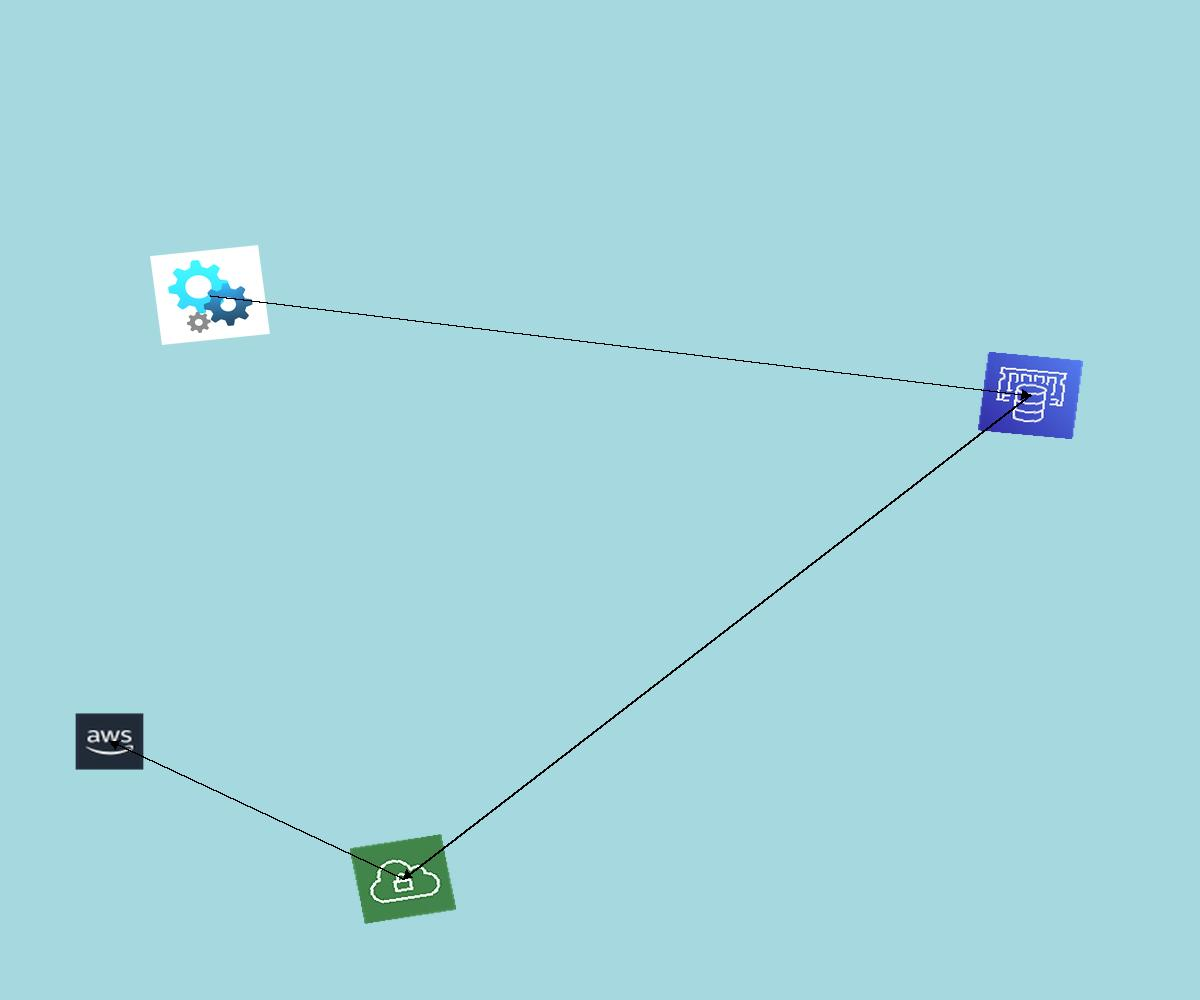AWS-Cloud-logo: (74, 712, 145, 771)
AWS-ElastiCache: (977, 351, 1084, 440)
AWS-Private_vpc: (349, 834, 457, 924)
Azure_api: (150, 245, 270, 345)
